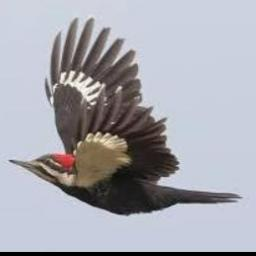Woodpecker: (7, 17, 242, 214)
